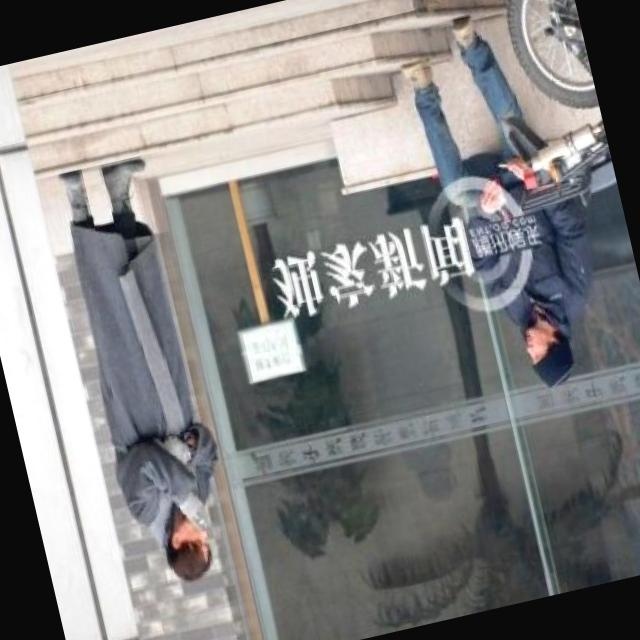cigarette: (196, 517, 206, 527)
